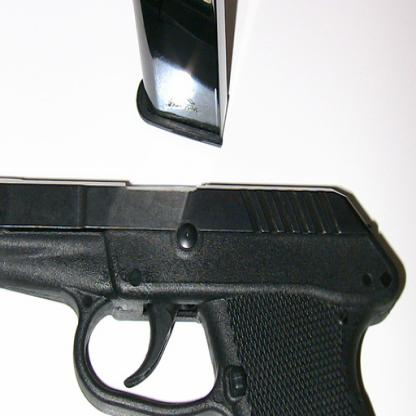gun: (0, 171, 401, 415)
